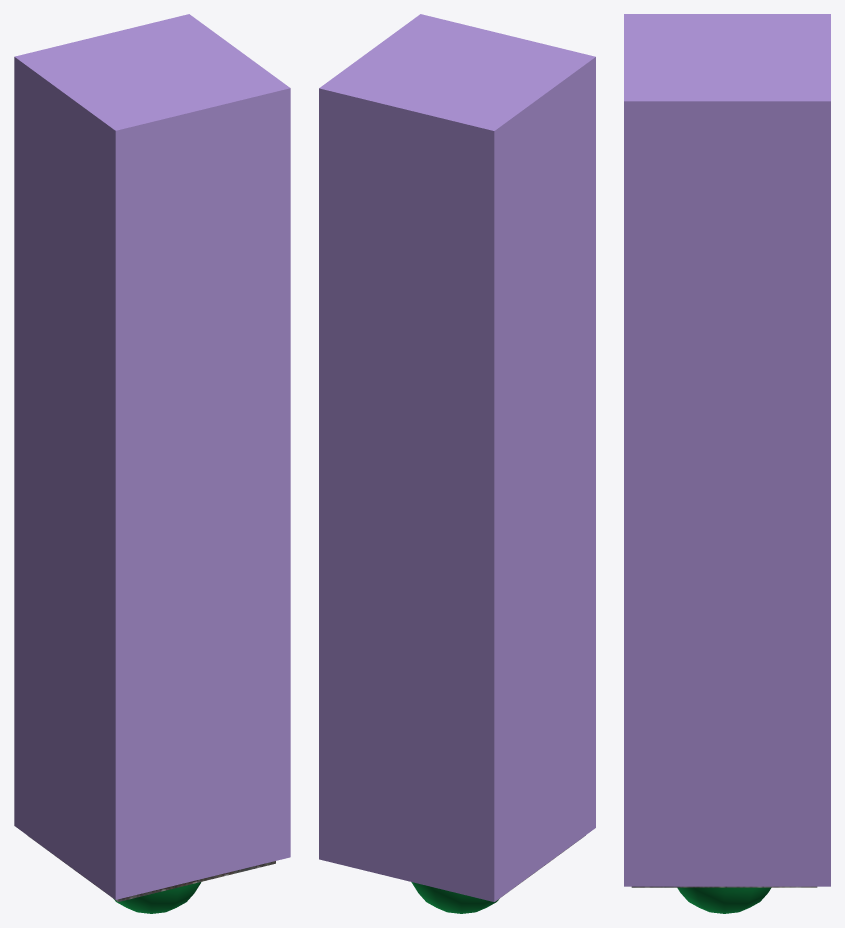
File: bollard.DAE
The picture shows the model from 3 angles, left to right: view 1: azimuth 30°, elevation 25°; view 2: azimuth 150°, elevation 25°; view 3: azimuth 270°, elevation 25°; orthographic projection. The views are drawn at different scales.
Parts seen in each view (by area): view 1: bounds, colcapsule-1, bollard80; view 2: bounds, colcapsule-1; view 3: bounds, colcapsule-1.
Part boxes in pixels (x1,y1,x2,y2): bounds: (14,14,290,899); colcapsule-1: (114,882,201,913); bollard80: (27,835,275,901); bounds: (319,14,595,901); colcapsule-1: (411,882,498,913); bounds: (624,14,830,886); colcapsule-1: (677,887,771,913).
Bounding box in the file's own units: 28.33 × 28.43 × 129.
